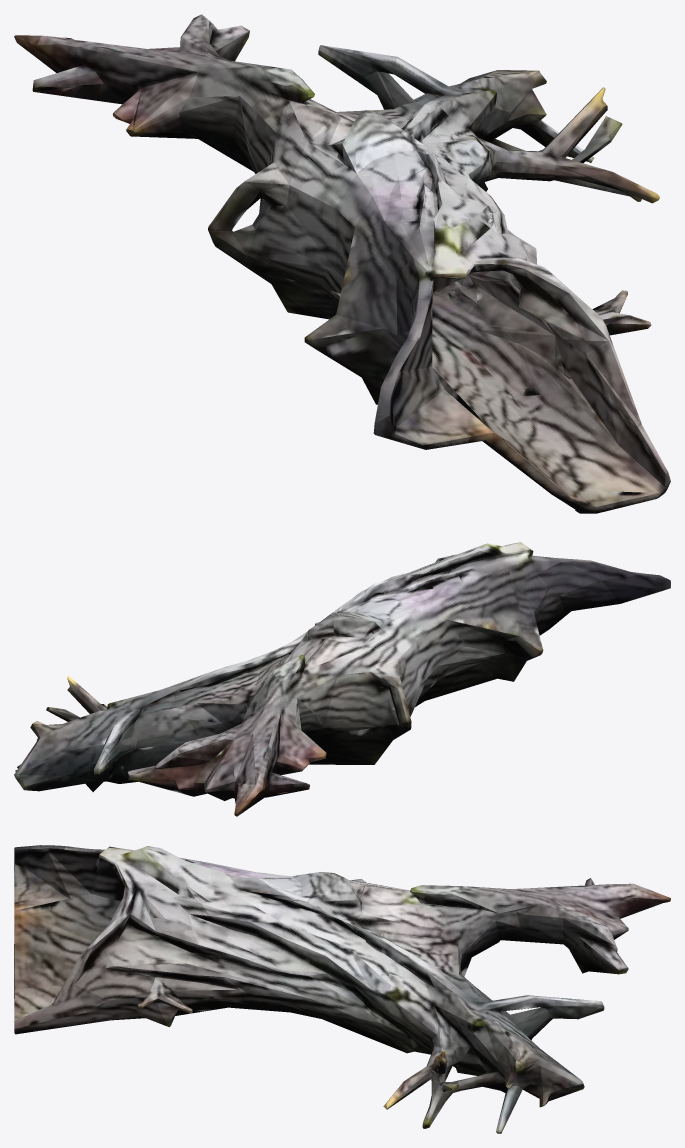
Rendered from swamp_cypress_02.glb.
3 renders of one model, top to bottom at view 1: azimuth 30°, elevation 25°; view 2: azimuth 150°, elevation 25°; view 3: azimuth 270°, elevation 25°, orthographic. The views are drawn at different scales.
Parts seen in each view (by area): view 1: geometry_0; view 2: geometry_0; view 3: geometry_0.
Part boxes in pixels (<box>): geometry_0: <box>14,14,670,513</box>; geometry_0: <box>14,542,670,816</box>; geometry_0: <box>14,845,670,1133</box>.
Bounding box in the file's own units: 0.6804 × 0.2574 × 0.9994.
1 material, 1 textured.
